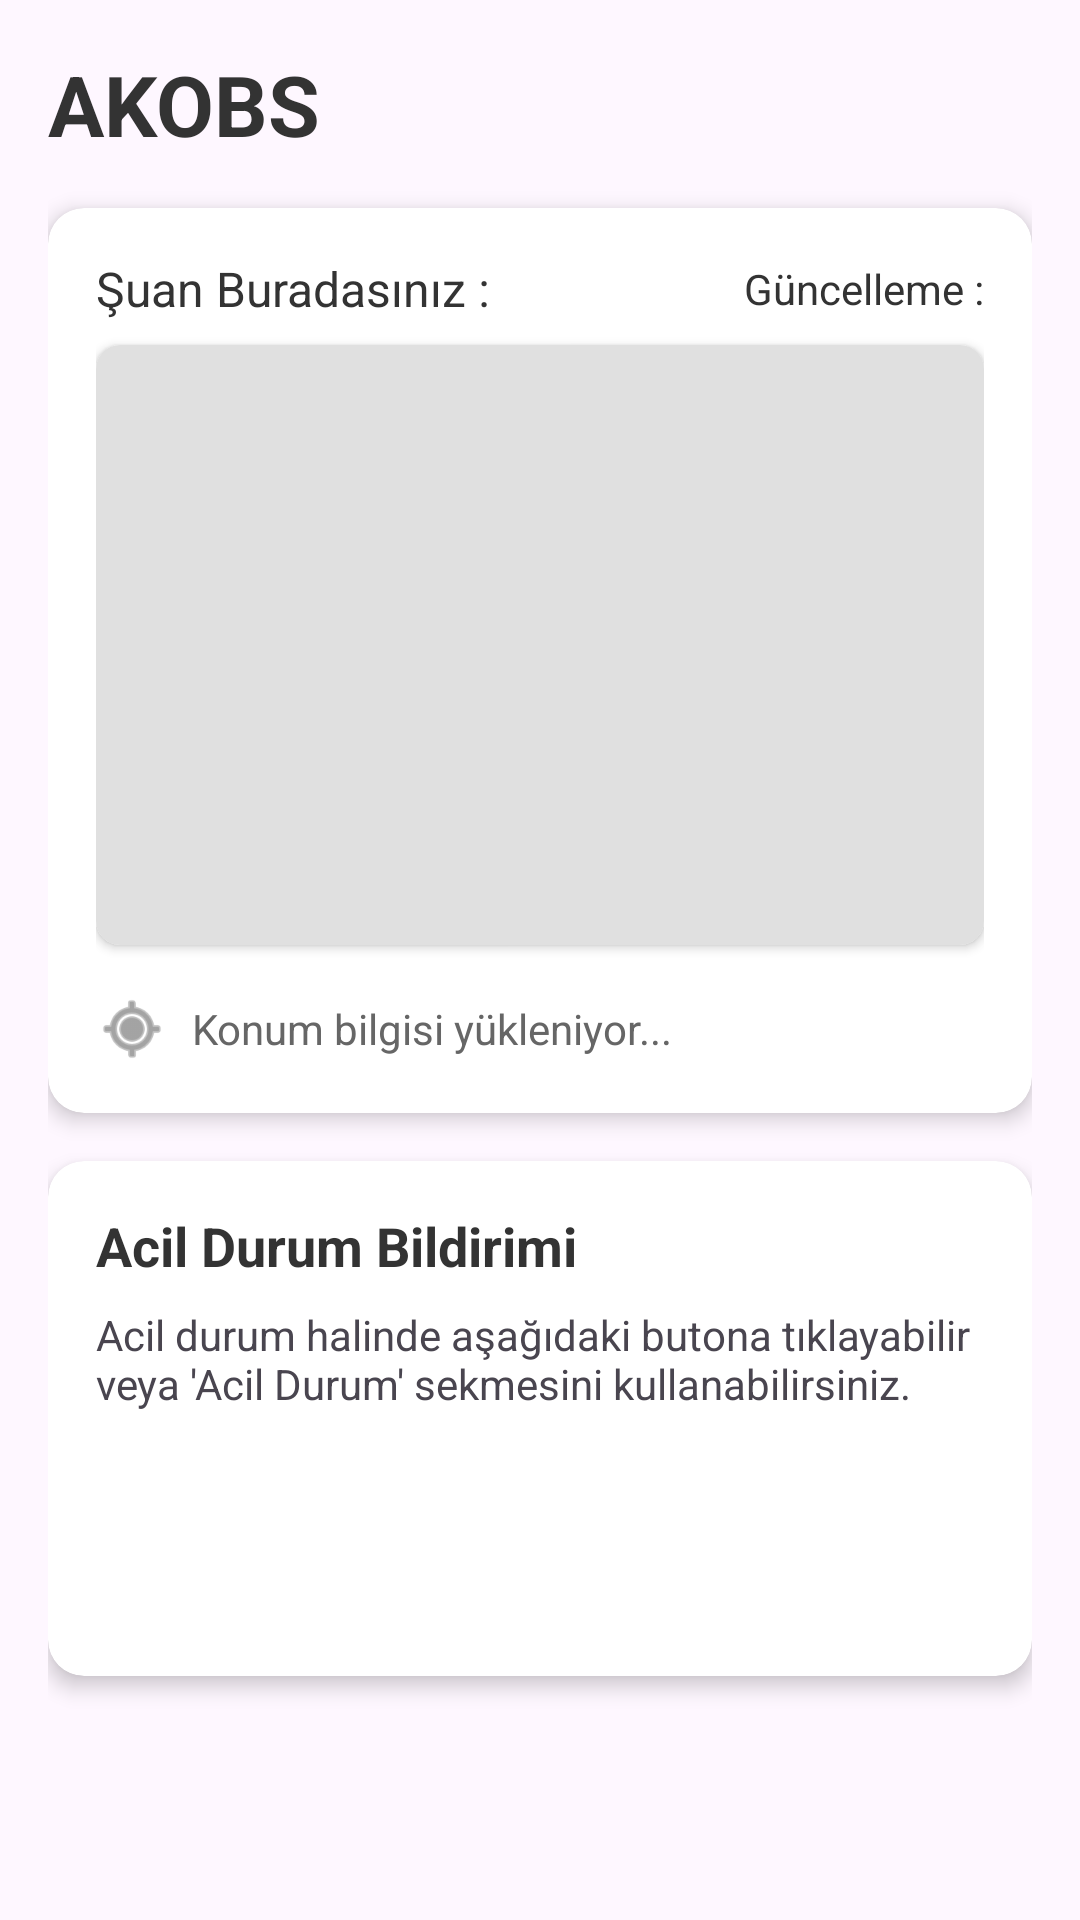

Named icons in this screenshot (1080×1920) and their centers, (x,y):
mylocation: (132,1029)
